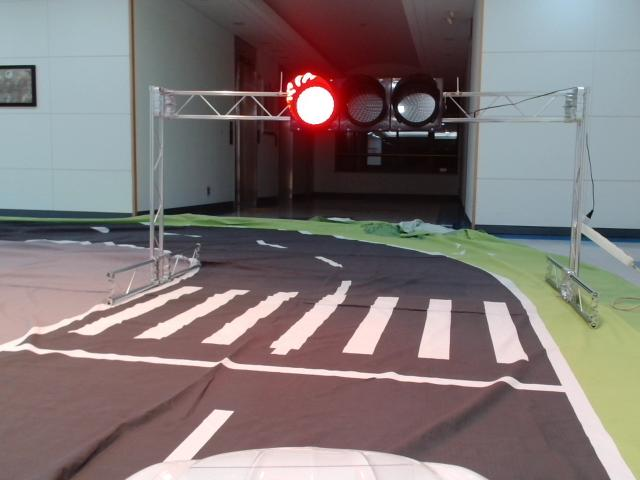crosswalk: (69, 285, 533, 364)
traffic light-red-: (287, 74, 443, 131)
